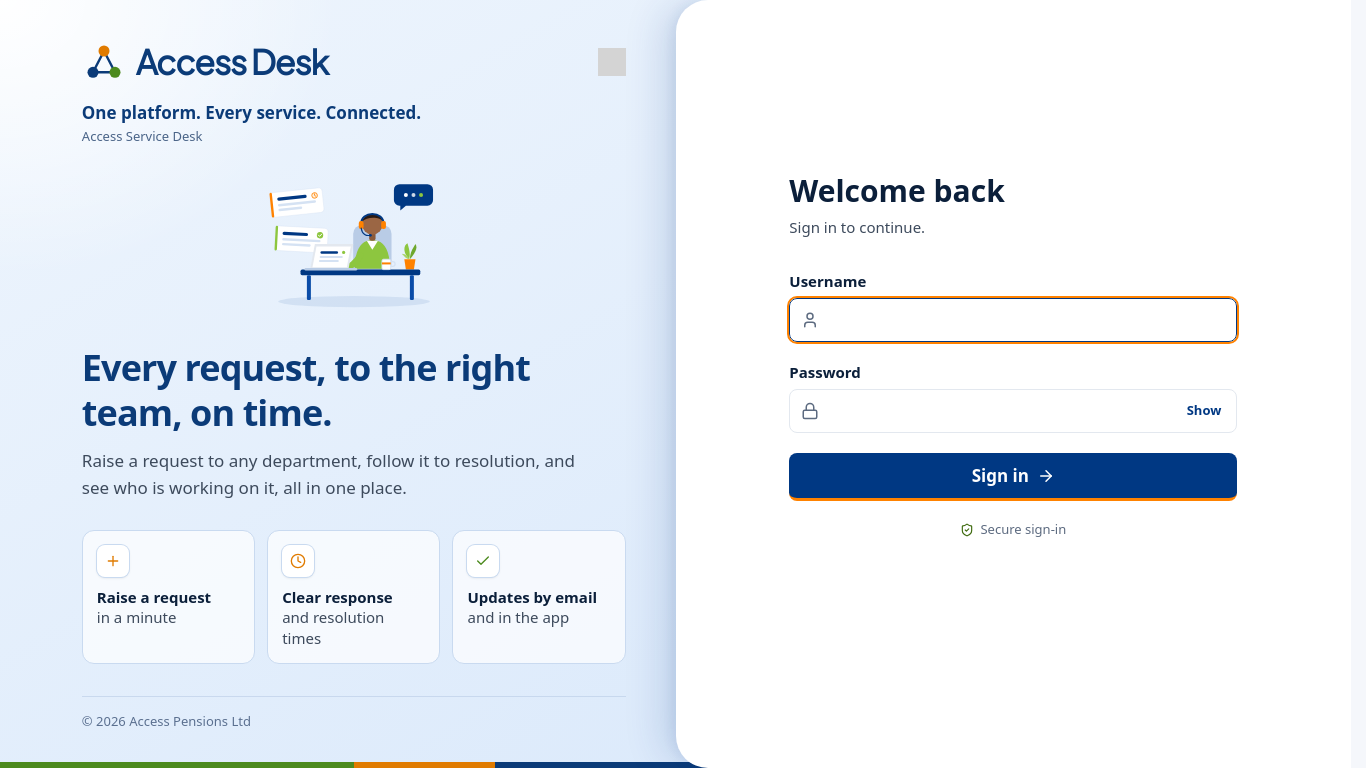
it: LoginPage › focuses the username field and requires both fields
Step 1. Click the button "Sign in" → (1013, 478), box [789,454,1237,502]
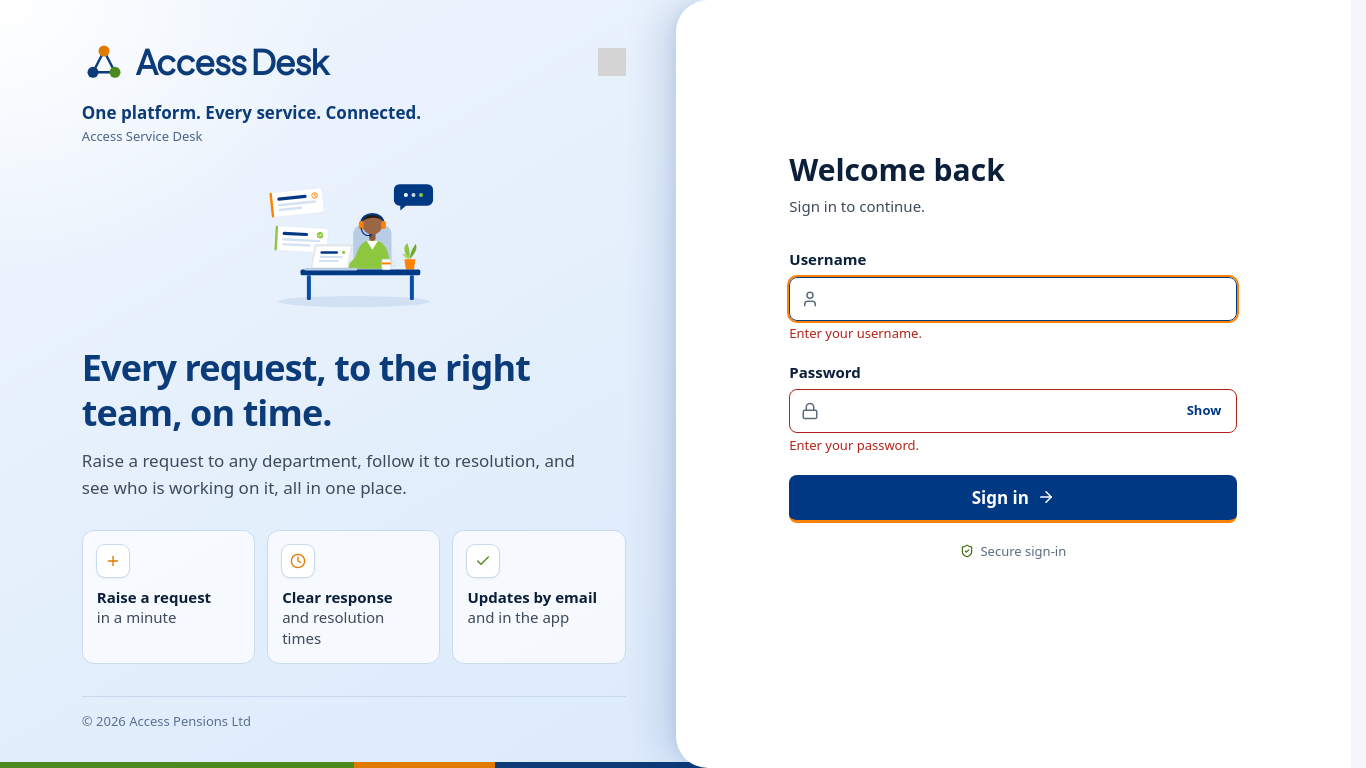
Result: the text "Enter your username." is shown at [789,324,922,342]
Result: the text "Enter your password." is shown at [789,436,919,454]
